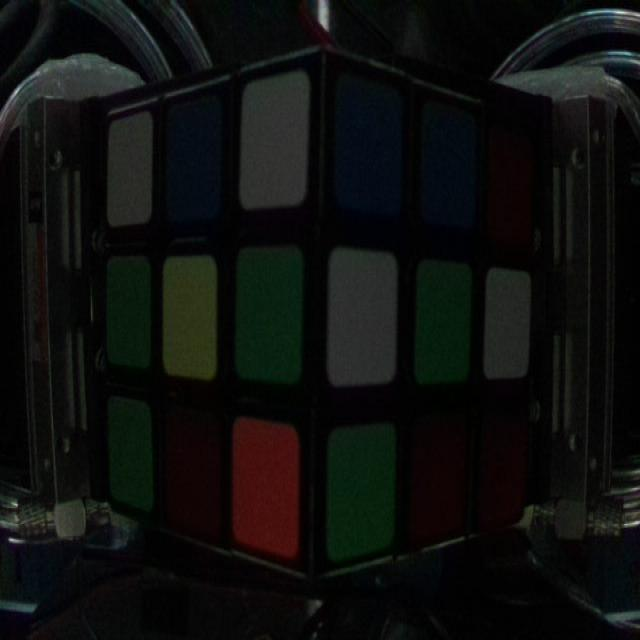b: (339, 84, 402, 211), (423, 100, 481, 227), (165, 101, 219, 220)
g: (237, 251, 303, 369), (332, 432, 393, 555), (418, 260, 473, 373), (107, 260, 151, 367), (107, 402, 150, 502)
o: (237, 427, 299, 553)
r: (165, 416, 220, 528), (415, 424, 466, 537), (480, 420, 522, 517), (493, 141, 527, 243)
w: (331, 252, 395, 384), (243, 86, 307, 202), (109, 121, 150, 224), (489, 275, 529, 377)
y: (166, 257, 215, 375)
